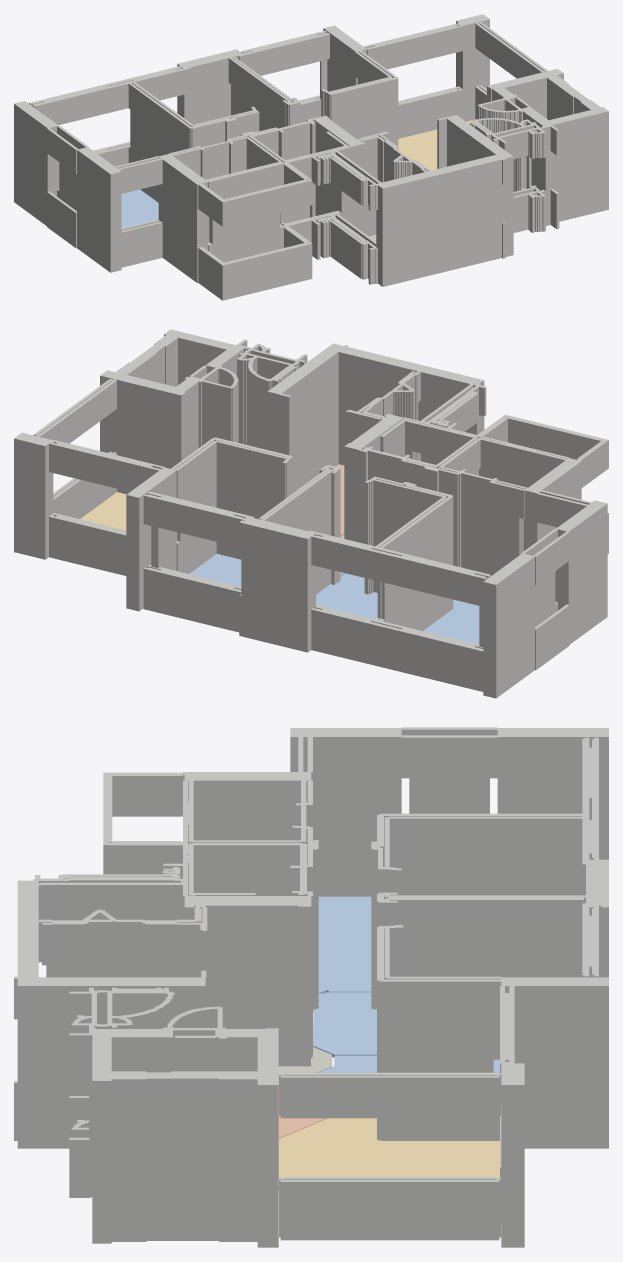
The picture shows the model from 3 angles, top to bottom: view 1: azimuth 30°, elevation 25°; view 2: azimuth 150°, elevation 25°; view 3: azimuth 270°, elevation 25°; orthographic projection. The views are drawn at different scales.
Parts seen in each view (by area): view 1: walls, room:living:2, room:bedroom:9; view 2: walls, room:bedroom:0, room:bedroom:9, room:bedroom:1, room:living:2; view 3: walls, room:living:2, room:bedroom:9, room:bedroom:0, room:bedroom:1.
Part boxes in pixels (x1,y1,x2,y2): walls: (14, 14, 608, 300); room:living:2: (398, 120, 473, 170); room:bedroom:9: (121, 189, 158, 227); walls: (14, 329, 608, 698); room:bedroom:0: (316, 573, 377, 619); room:bedroom:9: (423, 599, 479, 644); room:bedroom:1: (189, 554, 344, 586); room:living:2: (80, 492, 126, 530); walls: (14, 727, 608, 1247); room:living:2: (278, 1118, 501, 1236); room:bedroom:9: (318, 896, 371, 994); room:bedroom:0: (313, 992, 376, 1057); room:bedroom:1: (319, 1055, 499, 1072).
Size of the model in its own units: 13.22 by 2.8 by 9.29.
